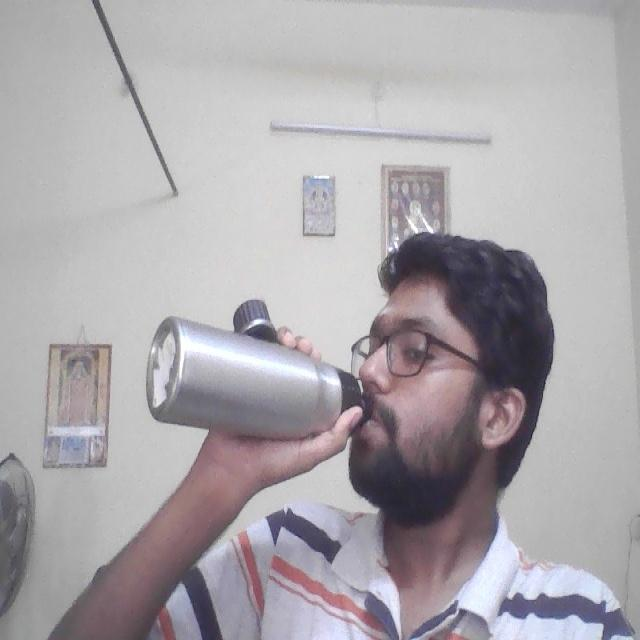Drinking: (147, 285, 369, 445)
